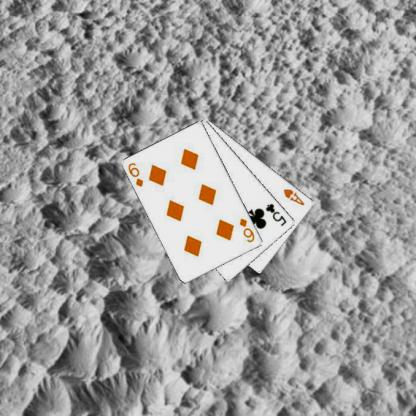5C: (264, 200, 288, 228)
6D: (125, 160, 145, 188), (237, 216, 256, 244)
AH: (281, 186, 306, 207)
